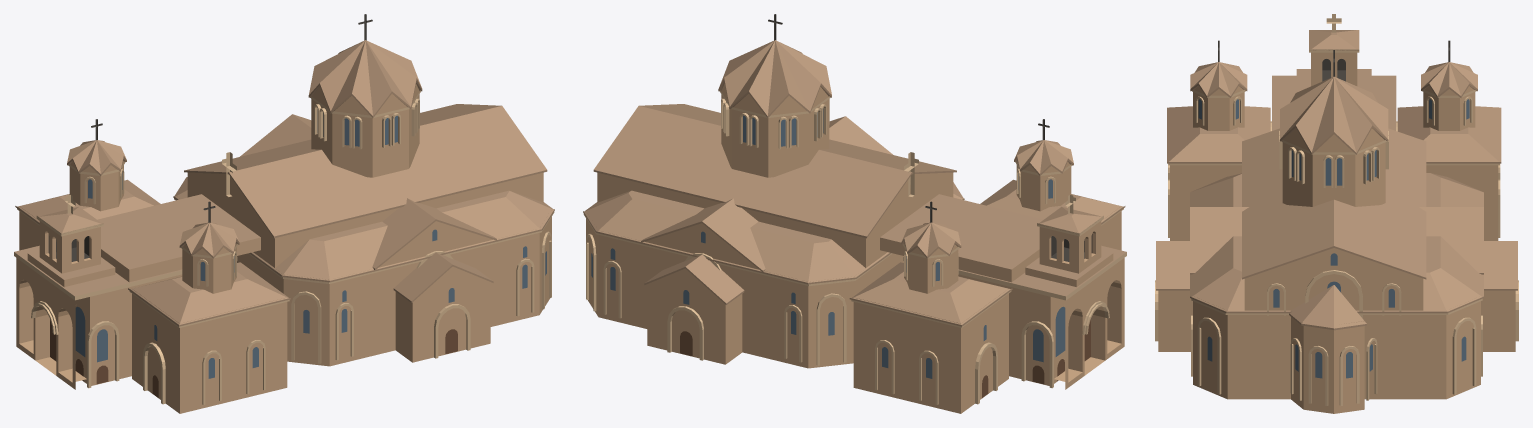
Rendered from yerevan-st-gregory-cathedral.glb.
3 views of the same model, side by side, from view 1: azimuth 30°, elevation 25°; view 2: azimuth 150°, elevation 25°; view 3: azimuth 270°, elevation 25° (orthographic). The views are drawn at different scales.
Visible parts, largest first — view 1: Saint Gregory the Illuminator Cathedral; view 2: Saint Gregory the Illuminator Cathedral; view 3: Saint Gregory the Illuminator Cathedral.
Part boxes in pixels (x1,y1,x2,y2): Saint Gregory the Illuminator Cathedral: (14, 14, 554, 413); Saint Gregory the Illuminator Cathedral: (583, 14, 1126, 413); Saint Gregory the Illuminator Cathedral: (1155, 14, 1518, 413).
Size of the model in its own units: 100 by 54 by 63.12.
